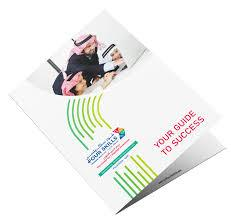paper: (6, 9, 225, 215)
